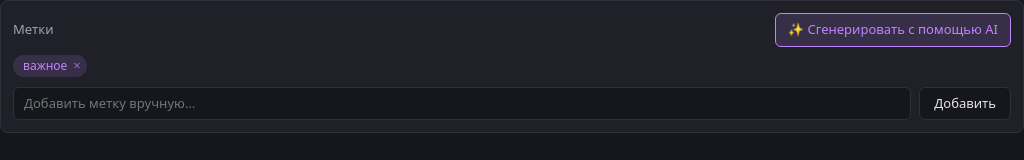
TagEditor › adds a manually-typed tag and shows it without an AI badge
Type "счёт" into the field with placeholder "Добавить метку вручную…" at (462,103), box [13,86,911,120]
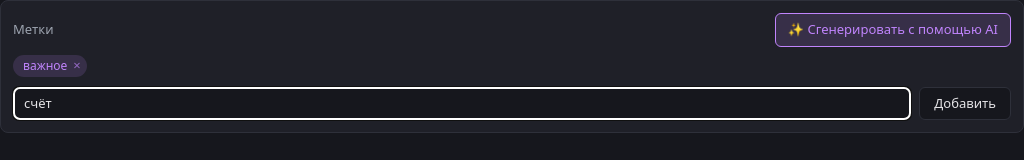
Click the button "Добавить" at (965,103), box [919,86,1011,120]
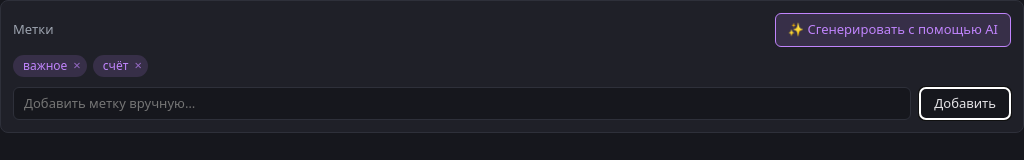
Expected: the list item "счёт" is shown, [103,56,128,74]
